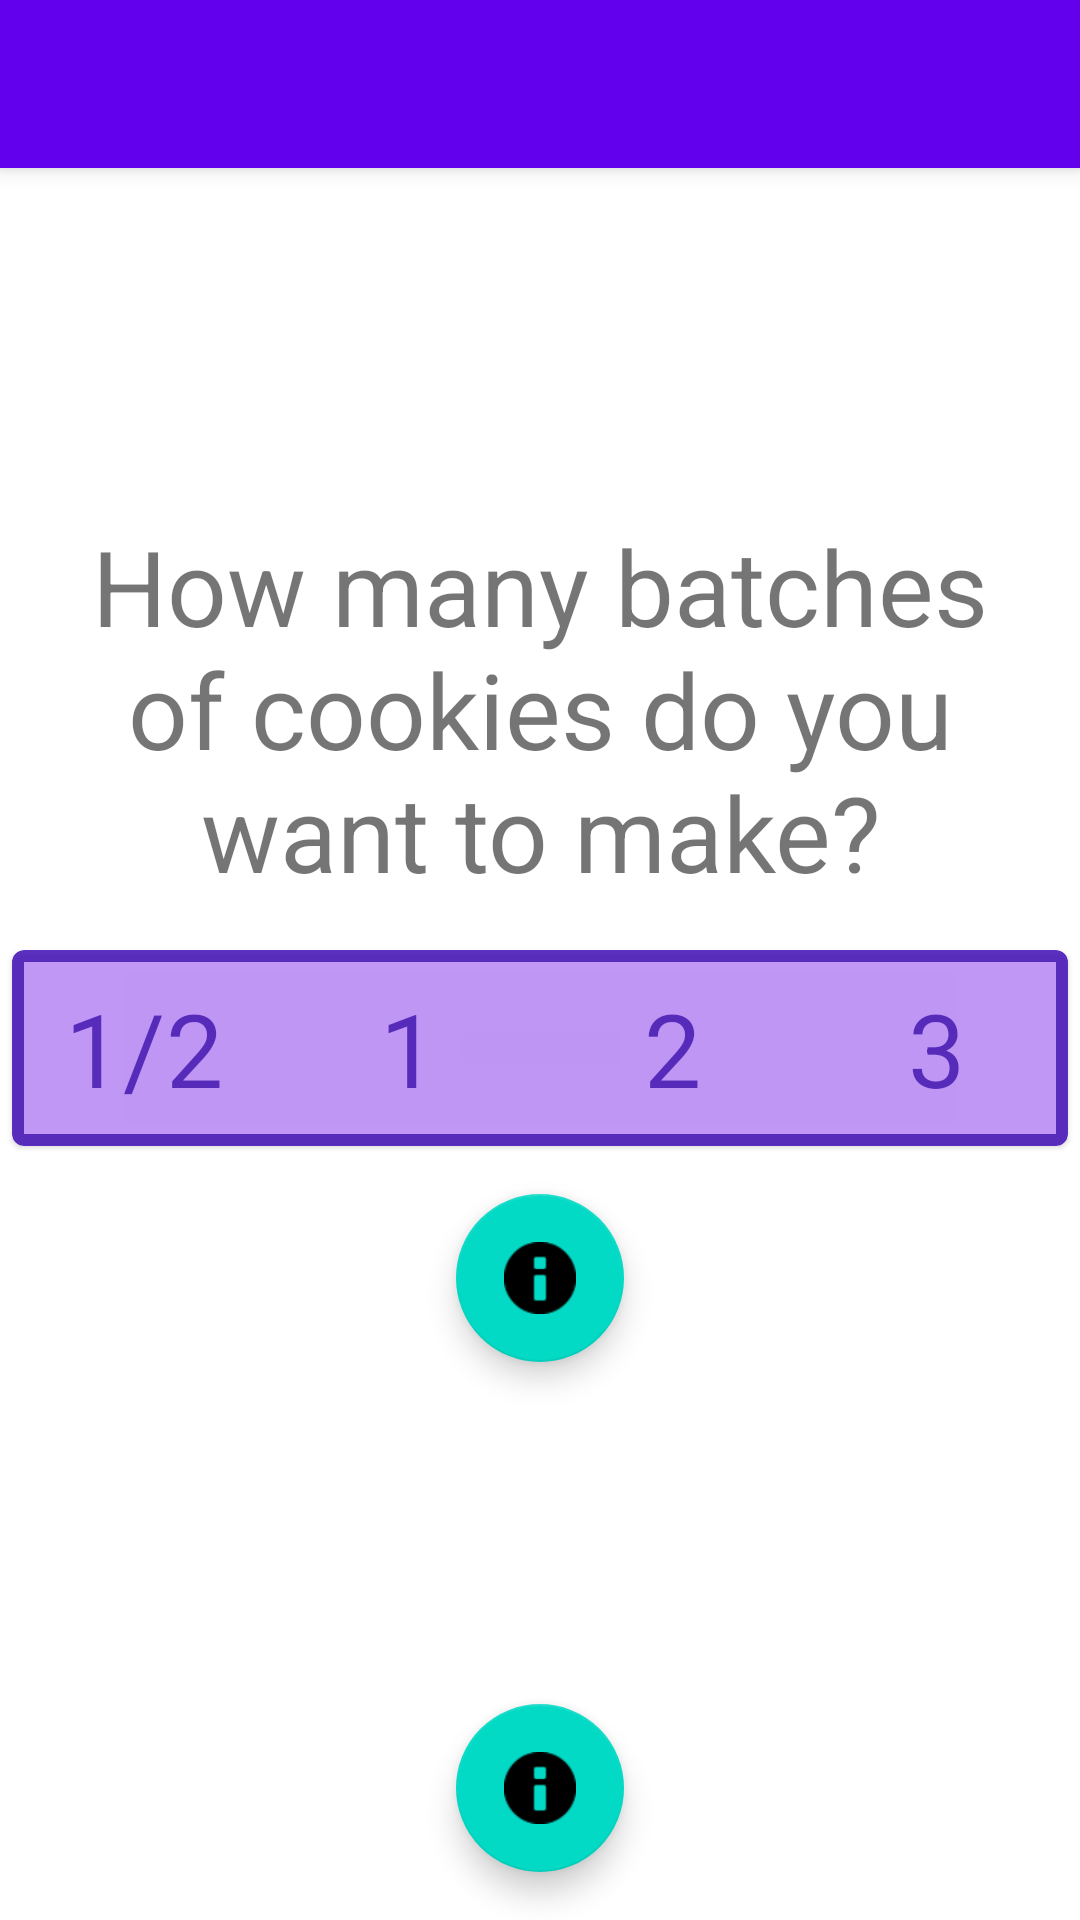

Screen size 1080 x 1920. Icon name, then its center in pixels as [x,y]:
info: [540,1278], [540,1788]
